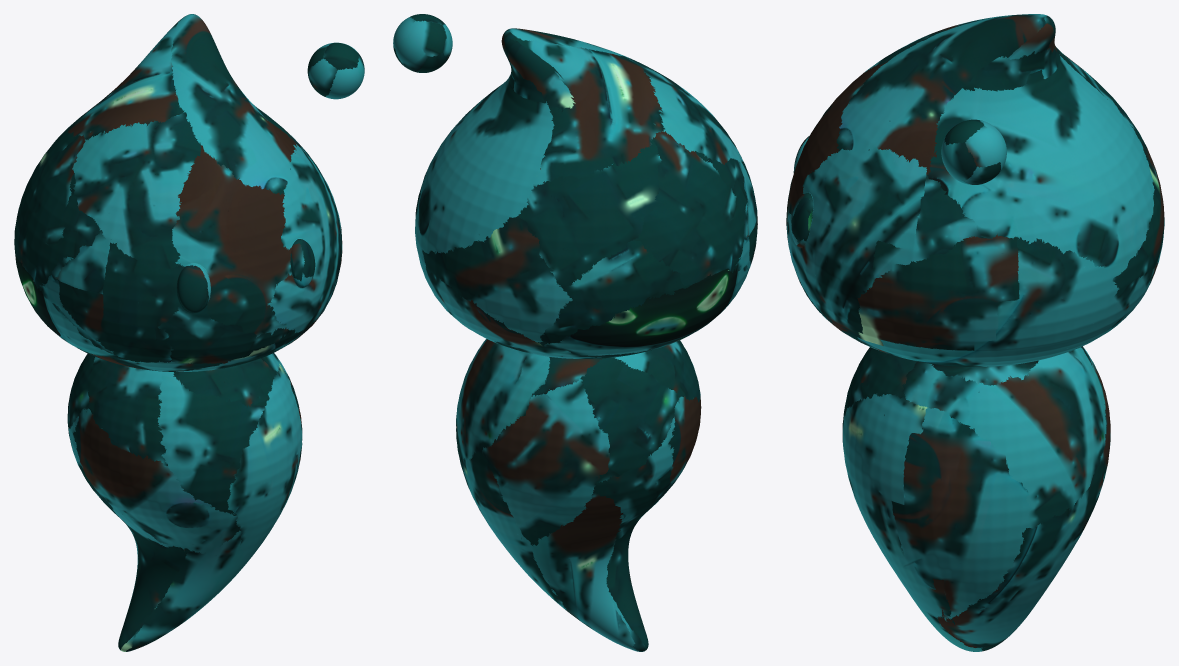
The model's file is Water.fbx.
The picture shows the model from 3 angles, left to right: view 1: azimuth 30°, elevation 25°; view 2: azimuth 150°, elevation 25°; view 3: azimuth 270°, elevation 25°; orthographic projection. The views are drawn at different scales.
Parts seen in each view (by area): view 1: texture_pbr_v128; view 2: texture_pbr_v128; view 3: texture_pbr_v128.
Part boxes in pixels (bbox=[...]): texture_pbr_v128: bbox=[14, 14, 364, 651]; texture_pbr_v128: bbox=[393, 14, 757, 651]; texture_pbr_v128: bbox=[786, 14, 1164, 651].
Bounding box in the file's own units: 66.44 × 116 × 58.45.
